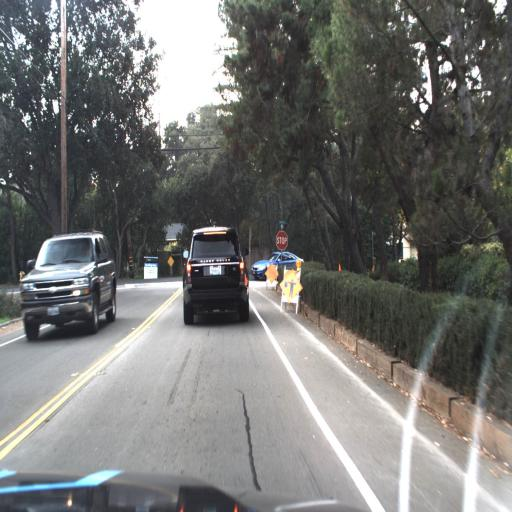car: (15, 224, 121, 343), (181, 219, 250, 326), (252, 249, 302, 282)
